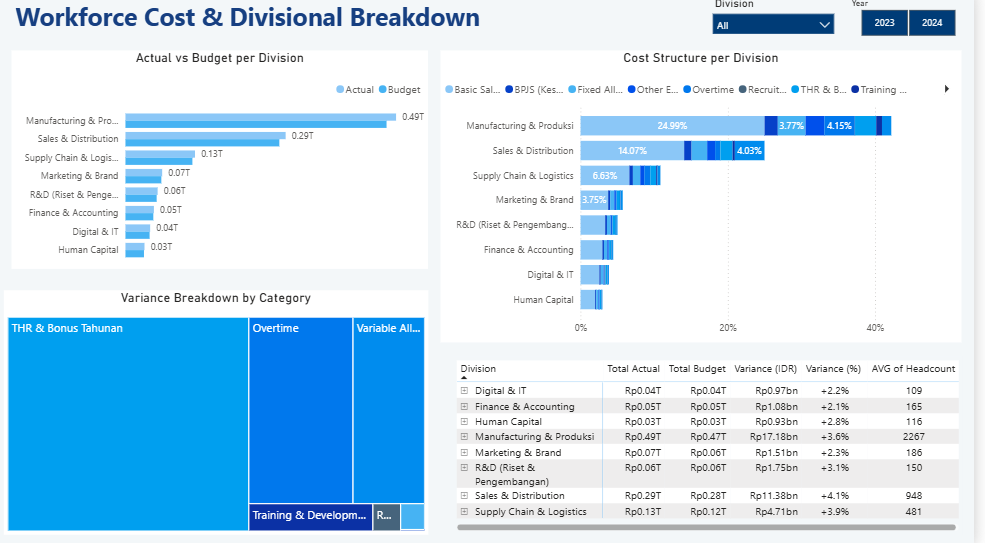

The dashboard page shown, as its layout file describes it:
{"tool":"powerbi","page":{"name":"Page 2","canvas":[1280,720],"ordinal":1},"visuals":[{"type":"textbox","box":[28,4,930.1,55.4],"z":0},{"type":"slicer","fields":{"Values":["fmcg_workforce_cost_dataset.Year"]},"box":[1108.5,1.9,171.7,61.3],"z":1000},{"type":"slicer","fields":{"Values":["fmcg_workforce_cost_dataset.Division"]},"box":[930,0,178.3,54.7],"z":2000},{"type":"clusteredBarChart","title":"Actual vs Budget per Division","fields":{"Y":["Sum(fmcg_workforce_cost_dataset.Actual_IDR)","Sum(fmcg_workforce_cost_dataset.Budget_IDR)"],"Category":["fmcg_workforce_cost_dataset.Division"]},"box":[28,76,542,284],"z":3000},{"type":"treemap","title":"Variance Breakdown by Category","fields":{"Group":["fmcg_workforce_cost_dataset.Category"],"Values":["Sum(fmcg_workforce_cost_dataset.Variance_IDR)"]},"box":[18,388,552,318],"z":4000},{"type":"barChart","title":"Cost Structure per Division","fields":{"Y":["fmcg_workforce_cost_dataset.Total Actual"],"Category":["fmcg_workforce_cost_dataset.Division"],"Series":["fmcg_workforce_cost_dataset.Category"]},"box":[586,76,678,380],"z":5000},{"type":"pivotTable","fields":{"Rows":["fmcg_workforce_cost_dataset.Division","fmcg_workforce_cost_dataset.Category"],"Values":["fmcg_workforce_cost_dataset.Total Actual","fmcg_workforce_cost_dataset.Total Budget","fmcg_workforce_cost_dataset.Total Variance IDR","fmcg_workforce_cost_dataset.Variance Pct Display","Avg(fmcg_workforce_cost_dataset.Headcount)"]},"box":[601,474,663,232],"z":6000}]}

Visuals, with their boxes in screenshot pixels (x1, y1, x2, y2), scaled from the page's 1280x720 canvas onto the 985x543 screenshot:
textbox: (22, 3, 737, 45)
slicer - fmcg_workforce_cost_dataset.Year: (853, 1, 984, 48)
slicer - fmcg_workforce_cost_dataset.Division: (716, 0, 853, 41)
"Actual vs Budget per Division" clusteredBarChart: (22, 57, 439, 272)
"Variance Breakdown by Category" treemap: (14, 293, 439, 532)
"Cost Structure per Division" barChart: (451, 57, 973, 344)
pivotTable - fmcg_workforce_cost_dataset.Division x fmcg_workforce_cost_dataset.Category: (462, 357, 973, 532)
